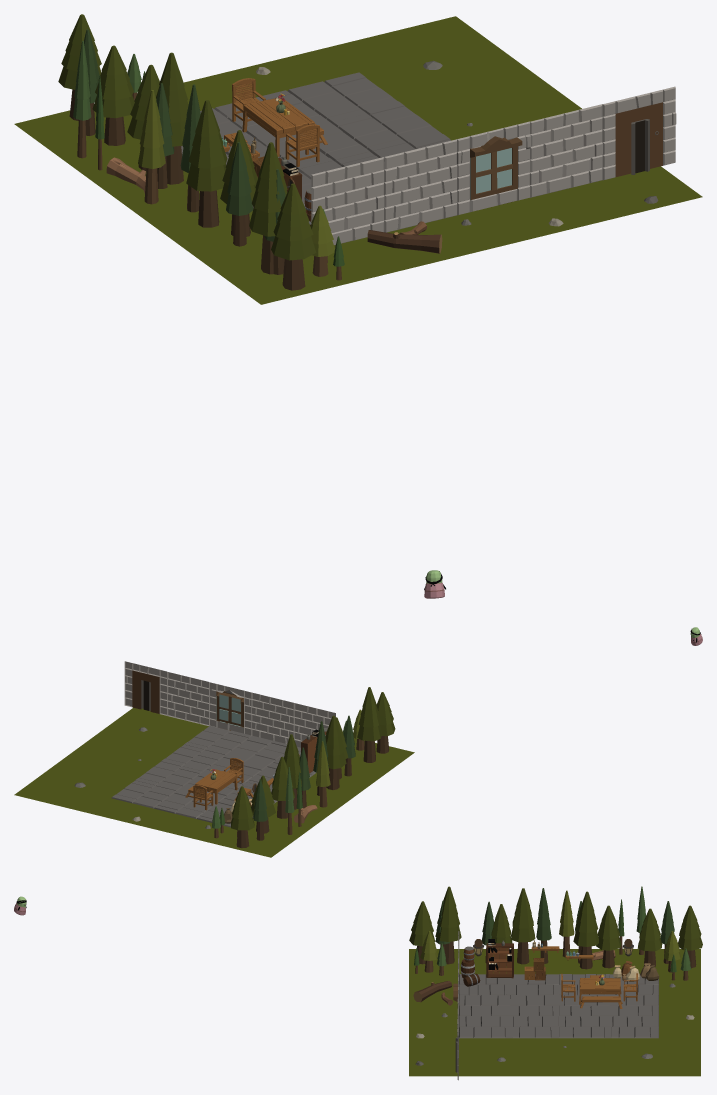
Rendered from GameKitAsset 1.fbx.
3 renders of one model, top to bottom at view 1: azimuth 30°, elevation 25°; view 2: azimuth 150°, elevation 25°; view 3: azimuth 270°, elevation 25°, orthographic. The views are drawn at different scales.
Visible parts, largest first — view 1: MeadowGrass, StoneFloor2, Wall1, Wall2.002, Wall2, WndowWall, Tree.022, Plane.008, Tree.015, Door, Tree.020, Tree.018 (+16 smaller); view 2: MeadowGrass, StoneFloor1, StoneFloor2, Wall2.002, Wall1, WndowWall, Tree.020, Wall2, Plane.008, Tree.022, Door, Tree.010 (+11 smaller); view 3: MeadowGrass, StoneFloor1, StoneFloor2, Tree.025, Tree.022, Tree.020, Tree.023, Tree.010, Tree.018, Cube.163, Tree.015, Table1 (+8 smaller).
Boxes of the visible parts, <box> form: MeadowGrass: <box>14,16,702,304</box>; StoneFloor2: <box>181,72,441,170</box>; Wall1: <box>384,139,457,232</box>; Wall2.002: <box>529,104,602,197</box>; Wall2: <box>311,157,384,245</box>; WndowWall: <box>457,121,530,215</box>; Tree.022: <box>186,100,227,227</box>; Plane.008: <box>615,102,662,176</box>; Tree.015: <box>271,183,316,290</box>; Door: <box>602,86,676,180</box>; Tree.020: <box>249,142,287,274</box>; Tree.018: <box>92,45,134,145</box>; MeadowGrass: <box>14,707,414,857</box>; StoneFloor1: <box>161,726,315,788</box>; StoneFloor2: <box>111,761,277,827</box>; Wall2.002: <box>167,671,208,725</box>; Wall1: <box>251,692,293,743</box>; WndowWall: <box>209,682,251,735</box>; Tree.020: <box>357,687,382,762</box>; Wall2: <box>293,703,335,747</box>; Plane.008: <box>132,670,159,713</box>; Tree.022: <box>325,715,346,789</box>; Door: <box>124,661,166,715</box>; Tree.010: <box>231,786,254,848</box>; MeadowGrass: <box>409,949,700,1076</box>; StoneFloor1: <box>459,974,559,1038</box>; StoneFloor2: <box>559,974,658,1038</box>; Tree.025: <box>573,891,598,969</box>; Tree.022: <box>511,888,535,964</box>; Tree.020: <box>435,886,461,964</box>; Tree.023: <box>596,905,621,968</box>; Tree.010: <box>678,905,702,968</box>; Tree.018: <box>637,908,662,966</box>; Cube.163: <box>486,943,513,978</box>; Tree.015: <box>409,901,435,964</box>; Table1: <box>579,978,621,1004</box>.
Bounding box in the file's own units: 17.05 × 3.74 × 27.71.
